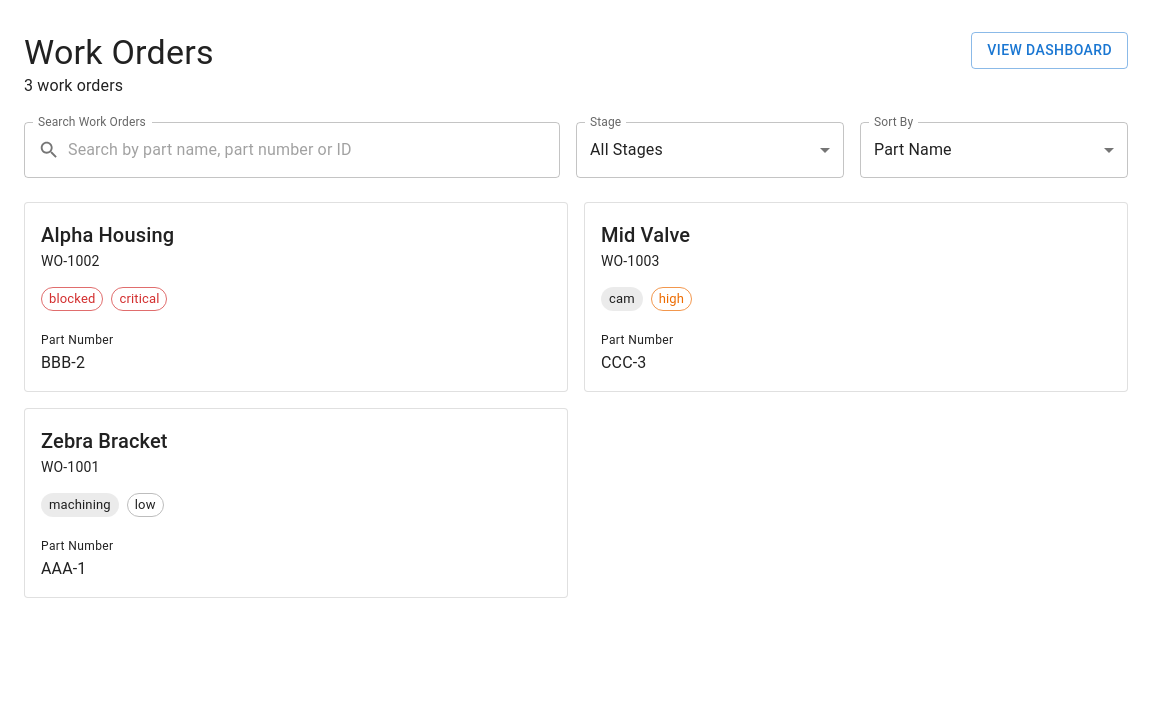
Test case: WorkOrders › shows the empty state when no work orders match
In the field: (314, 150) [68,122,560,178], type "nonexistent part"
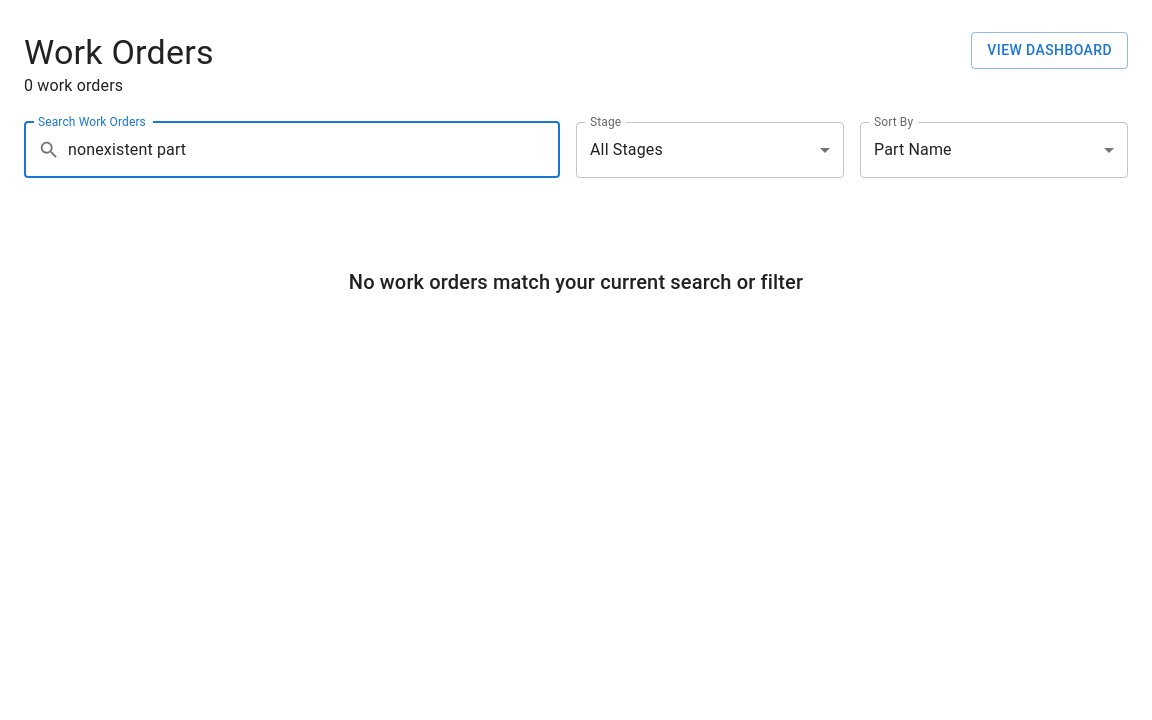
expect the heading "No work orders match your current search or filter" is shown: met, box [349,270,803,294]
